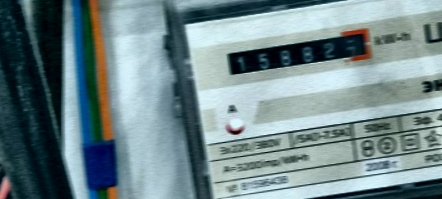1: (235, 52, 247, 71)
2: (322, 39, 335, 57)
5: (256, 50, 270, 68)
7: (345, 42, 357, 56)
8: (279, 46, 292, 64), (302, 43, 313, 60)
screen: (220, 23, 378, 79)
